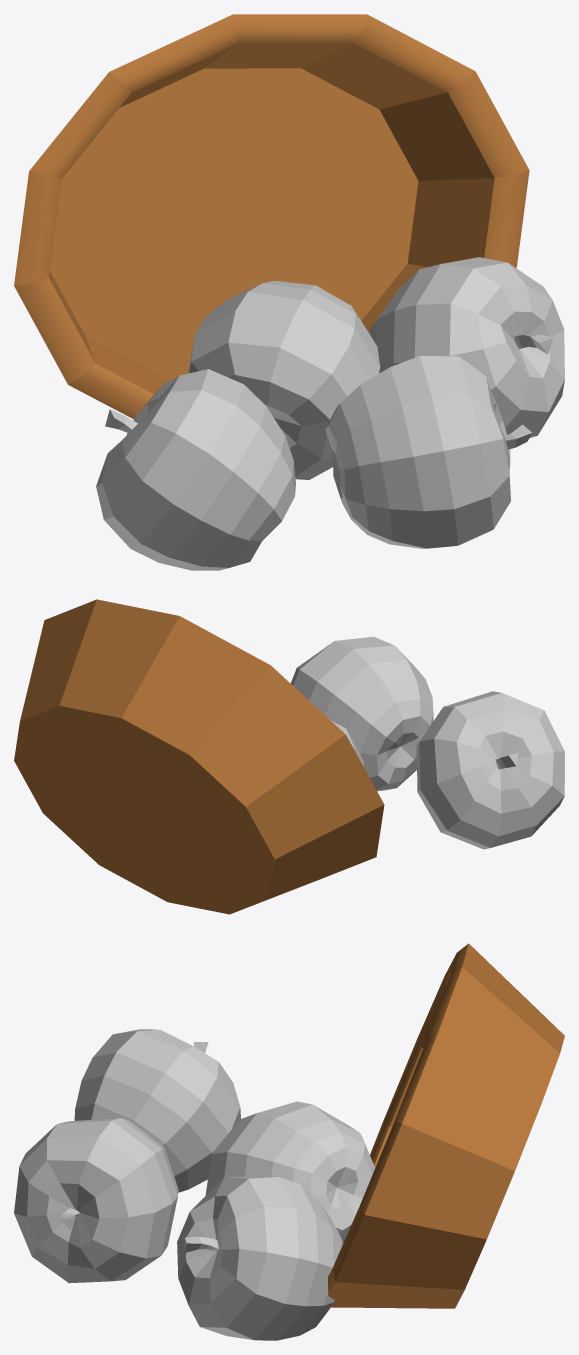
Rendered from item_appleBasket.fbx.
3 views of the same model, one above another, from view 1: azimuth 30°, elevation 25°; view 2: azimuth 150°, elevation 25°; view 3: azimuth 270°, elevation 25° (orthographic). The views are drawn at different scales.
Parts seen in each view (by area): view 1: fruit_basket_after; view 2: fruit_basket_after; view 3: fruit_basket_after.
Boxes of the visible parts, <box> form: fruit_basket_after: <box>14,14,564,570</box>; fruit_basket_after: <box>14,599,564,914</box>; fruit_basket_after: <box>14,943,564,1340</box>.
Size of the model in its own units: 19.2 by 12.46 by 19.62.
